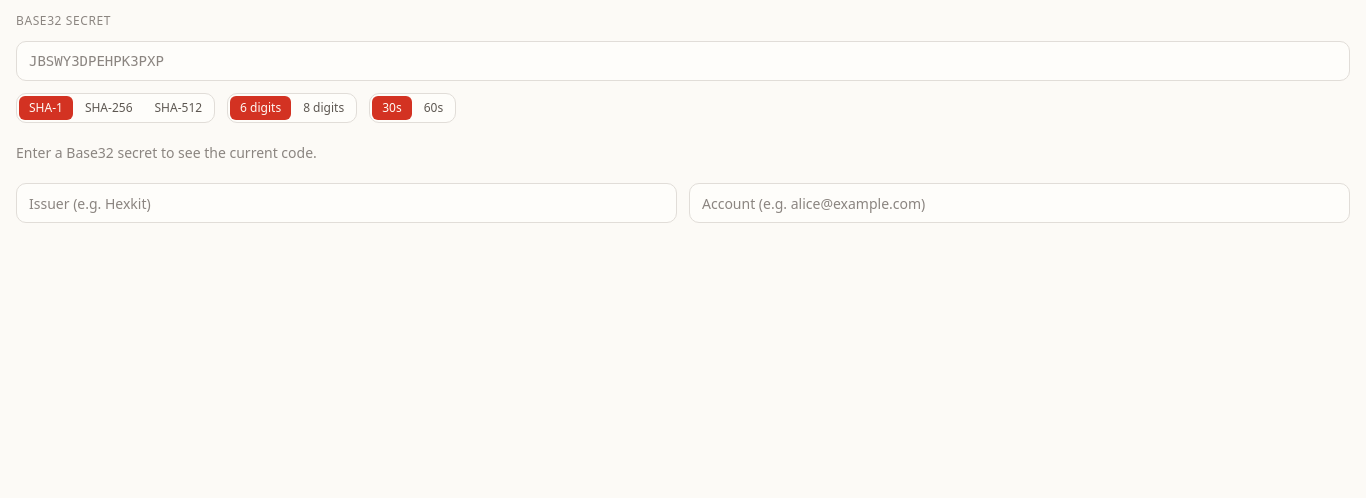
Scenario: TotpTool › generates a live code from the secret
Step 1. Type "GEZDGNBVGY3TQOJQGEZDGNBVGY3TQOJQ" into the field named "Base32 secret" → (683, 61), box [16,41,1350,81]
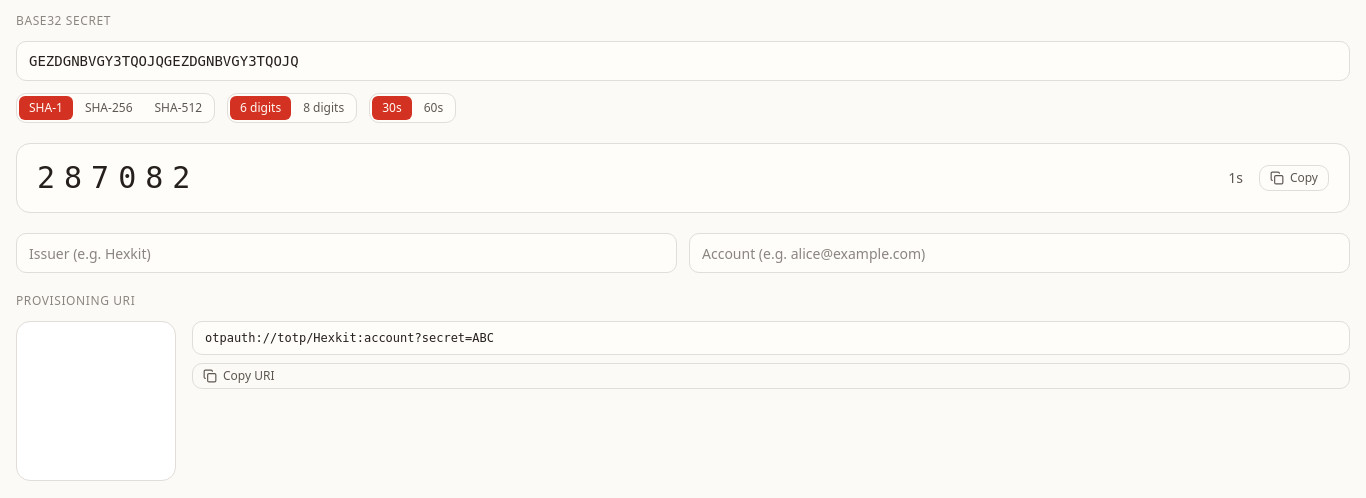
Now the text "287082" is shown, box [37,160,199,196]
Now the text named "Seconds remaining" reads "1s", box [1228,168,1243,188]
